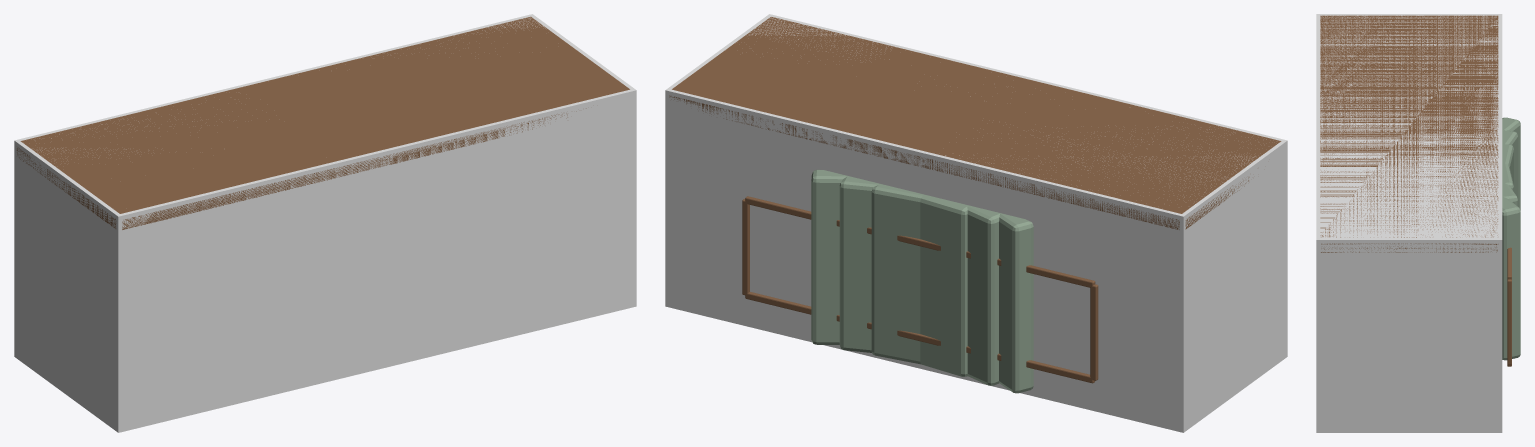
The model's file is premium.glb.
3 views of the same model, side by side, from view 1: azimuth 30°, elevation 25°; view 2: azimuth 150°, elevation 25°; view 3: azimuth 270°, elevation 25° (orthographic). The views are drawn at different scales.
Parts seen in each view (by area): view 1: COL_RECEPTION_DESKS_PREMIUM, Reception_Worktop.002; view 2: COL_RECEPTION_DESKS_PREMIUM, Reception_Worktop.002, Reception_FrontSegment_3.002, Reception_FrontSegment_2.002, Reception_FrontSegment_0.002, Reception_FrontSegment_4.001, Reception_FrontSegment_1.002, Reception_FrontSegment_5, Reception_TrimTop, Reception_TrimBottom, Reception_TrimLeft, Reception_TrimRight; view 3: COL_RECEPTION_DESKS_PREMIUM, Reception_Worktop.002, Reception_FrontSegment_5, Reception_FrontSegment_1.002, Reception_FrontSegment_0.002, Reception_TrimRight, Reception_FrontSegment_2.002, Reception_FrontSegment_3.002, Reception_FrontSegment_4.001.
Boxes of the visible parts, left/top/right/bottom form: COL_RECEPTION_DESKS_PREMIUM: left=14, top=14, right=636, bottom=432; Reception_Worktop.002: left=16, top=16, right=629, bottom=229; COL_RECEPTION_DESKS_PREMIUM: left=665, top=14, right=1287, bottom=432; Reception_Worktop.002: left=669, top=17, right=1281, bottom=229; Reception_FrontSegment_3.002: left=871, top=184, right=934, bottom=364; Reception_FrontSegment_2.002: left=911, top=191, right=967, bottom=376; Reception_FrontSegment_0.002: left=999, top=213, right=1033, bottom=393; Reception_FrontSegment_4.001: left=839, top=176, right=886, bottom=352; Reception_FrontSegment_1.002: left=962, top=204, right=1000, bottom=385; Reception_FrontSegment_5: left=811, top=169, right=848, bottom=344; Reception_TrimTop: left=745, top=196, right=1095, bottom=287; Reception_TrimBottom: left=745, top=292, right=1094, bottom=383; Reception_TrimLeft: left=1090, top=284, right=1098, bottom=380; Reception_TrimRight: left=742, top=199, right=749, bottom=295; COL_RECEPTION_DESKS_PREMIUM: left=1316, top=14, right=1502, bottom=432; Reception_Worktop.002: left=1320, top=15, right=1498, bottom=252; Reception_FrontSegment_5: left=1502, top=196, right=1520, bottom=360; Reception_FrontSegment_1.002: left=1502, top=130, right=1518, bottom=198; Reception_FrontSegment_0.002: left=1502, top=117, right=1520, bottom=210; Reception_TrimRight: left=1507, top=279, right=1511, bottom=365; Reception_FrontSegment_2.002: left=1502, top=144, right=1513, bottom=184; Reception_FrontSegment_3.002: left=1502, top=158, right=1513, bottom=191; Reception_FrontSegment_4.001: left=1502, top=183, right=1518, bottom=206.
Size of the model in its own units: 2.91 by 1.16 by 1.11.
